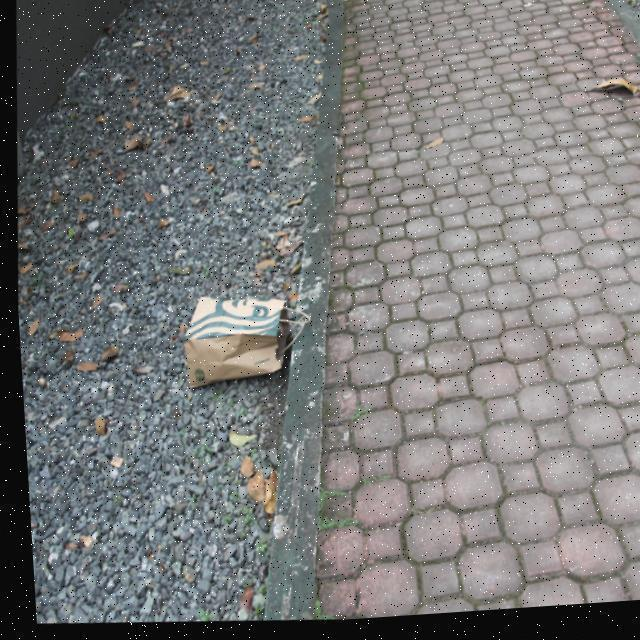Paper_Bag: (174, 292, 311, 398)
